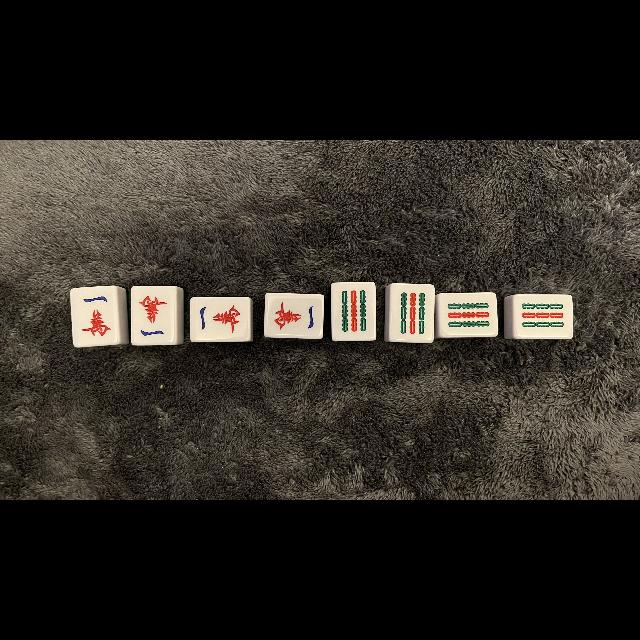b9: (514, 294, 572, 338), (391, 284, 434, 342), (332, 283, 376, 339), (440, 293, 496, 335)
c1: (72, 288, 118, 344), (132, 287, 176, 343), (266, 294, 322, 338), (191, 298, 249, 340)
